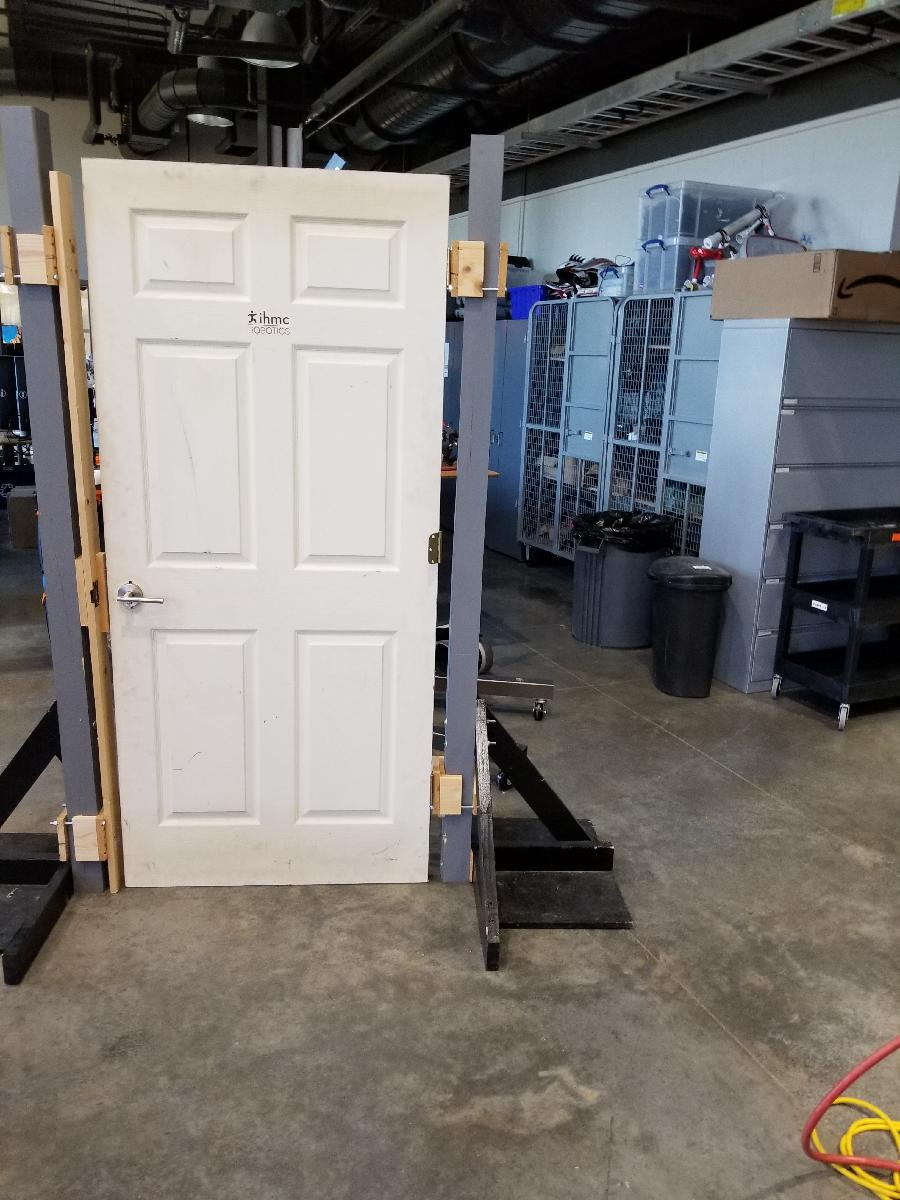door: (72, 152, 452, 893)
doorHandle: (116, 583, 169, 612)
